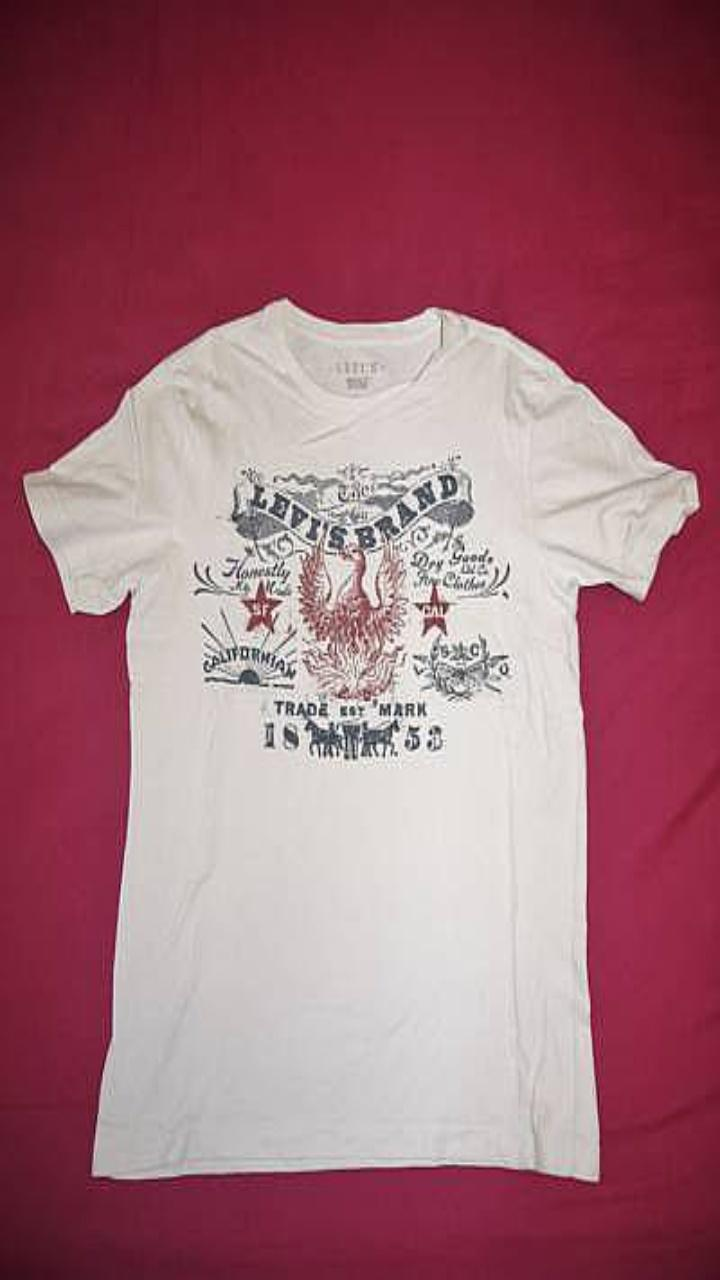T-Shirt: (23, 298, 699, 1180)
